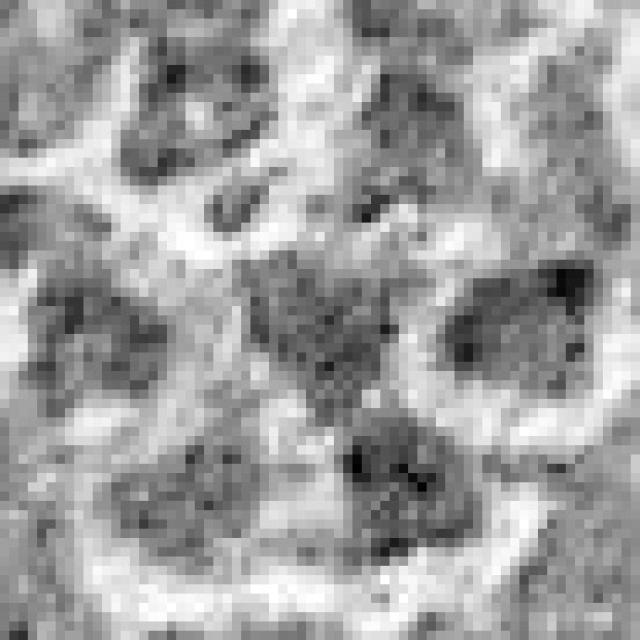inner: (224, 245, 429, 434)
lobe: (116, 32, 288, 225), (110, 385, 268, 578), (320, 402, 489, 566), (434, 255, 608, 406), (333, 73, 483, 232), (22, 256, 170, 417)
outer: (0, 0, 640, 640)
